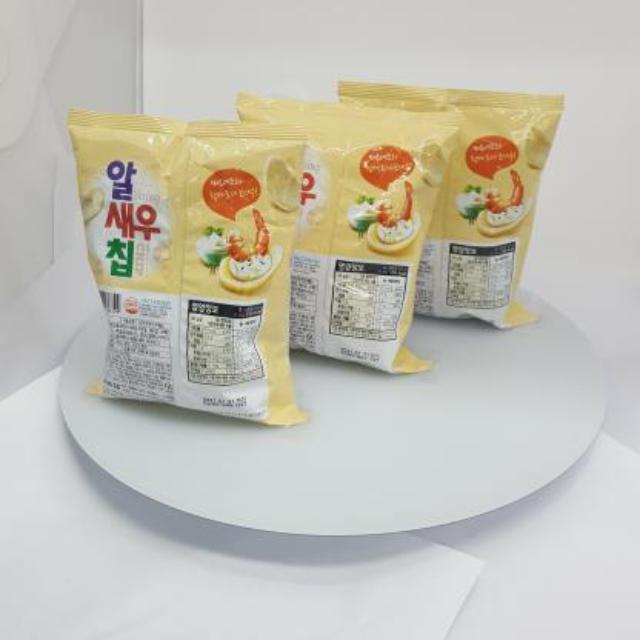snack_bag: (56, 68, 572, 420)
